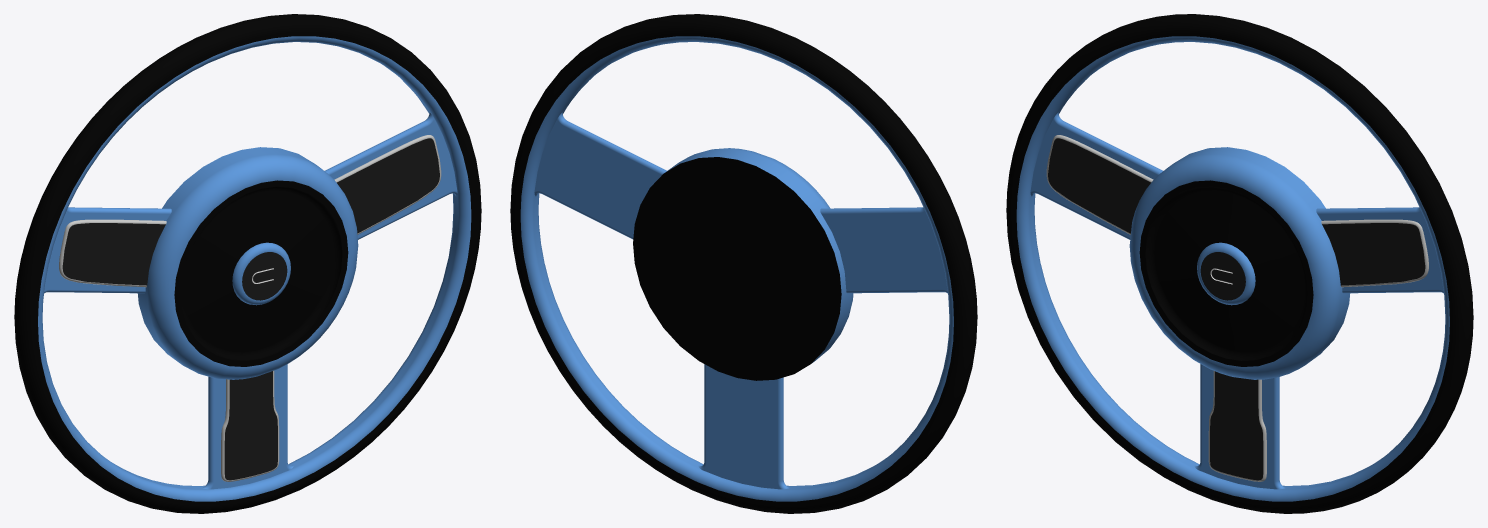
Rendered from rolls_Steering v3.fbx.
3 renders of one model, left to right at view 1: azimuth 30°, elevation 25°; view 2: azimuth 150°, elevation 25°; view 3: azimuth 330°, elevation 25°, orthographic.
Visible parts, largest first — view 1: Body1; view 2: Body1; view 3: Body1.
Boxes of the visible parts, left/top/right/bottom form: Body1: left=14, top=14, right=481, bottom=513; Body1: left=510, top=14, right=977, bottom=513; Body1: left=1006, top=14, right=1473, bottom=513.
Bounding box in the file's own units: 40 × 40 × 3.5.
